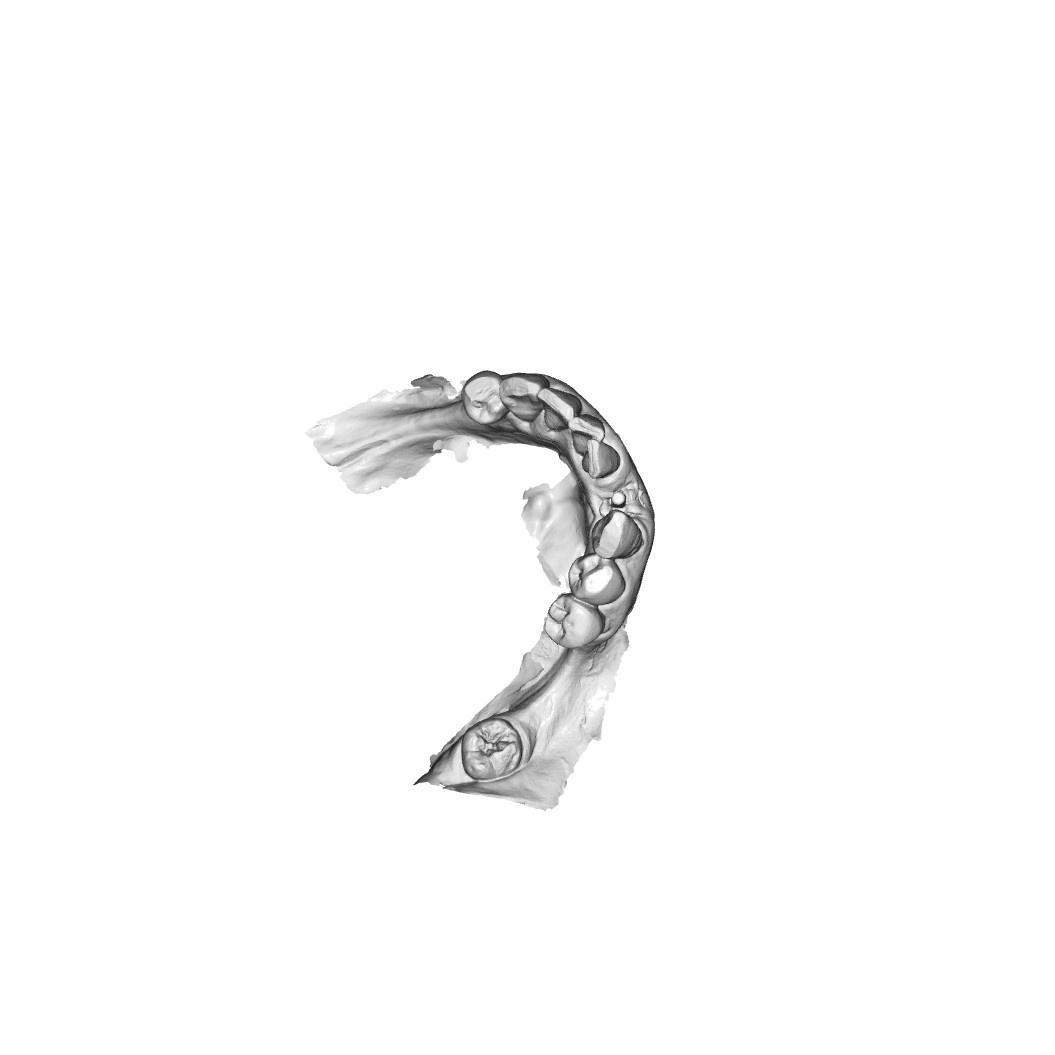abutment: (609, 489, 629, 513)
canine: (588, 511, 639, 559), (502, 375, 542, 413)
incisor: (538, 388, 576, 429), (585, 440, 618, 479), (570, 412, 602, 445)
molar: (459, 709, 536, 784)
premolar: (572, 554, 627, 603), (550, 596, 602, 645), (466, 363, 504, 430)
